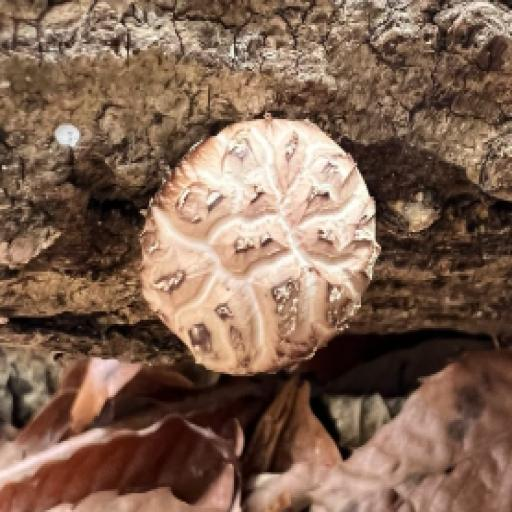Shiitake Mushroom: (96, 84, 422, 407)
